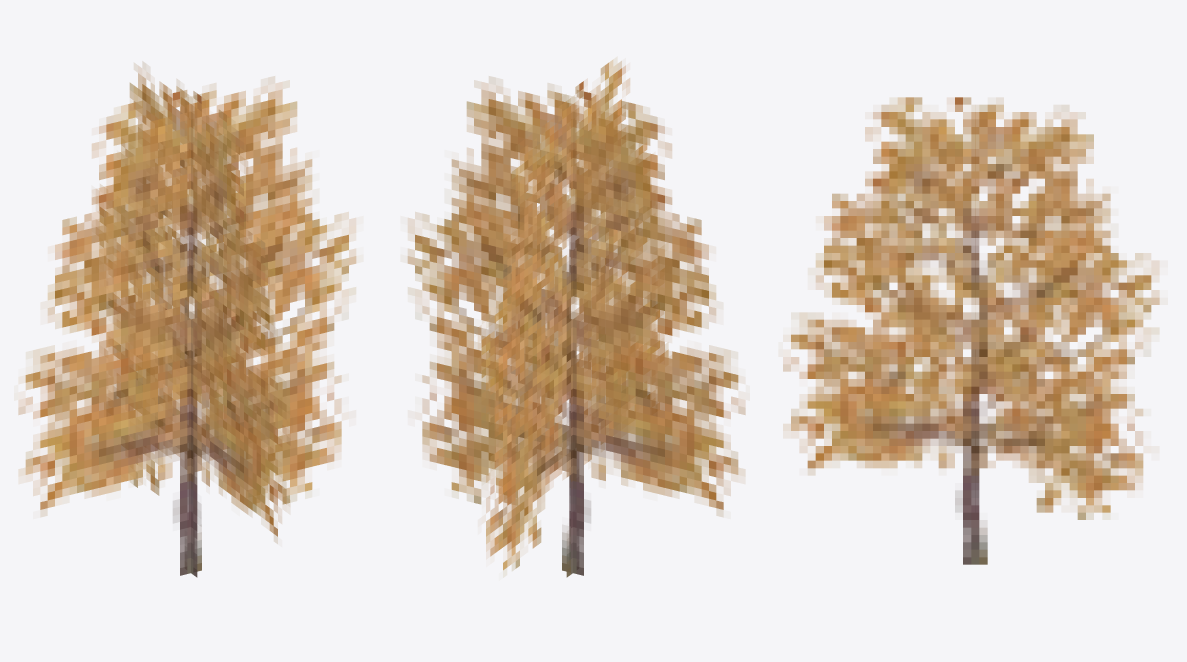
The model's file is tree-large.glb.
The picture shows the model from 3 angles, left to right: view 1: azimuth 30°, elevation 25°; view 2: azimuth 150°, elevation 25°; view 3: azimuth 270°, elevation 25°; orthographic projection. The views are drawn at different scales.
Parts seen in each view (by area): view 1: tree-large; view 2: tree-large; view 3: tree-large.
Part boxes in pixels (x1,y1,x2,y2): tree-large: (18, 62, 356, 577); tree-large: (407, 58, 745, 577); tree-large: (783, 97, 1159, 564).
Bounding box in the file's own units: 1.3 × 1.7 × 1.3.
Materials: 1 (1 with a texture image).
